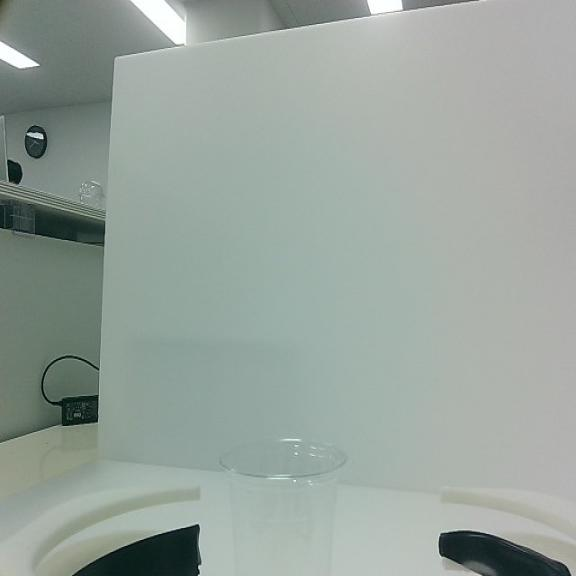Plastik: (220, 438, 346, 574)
